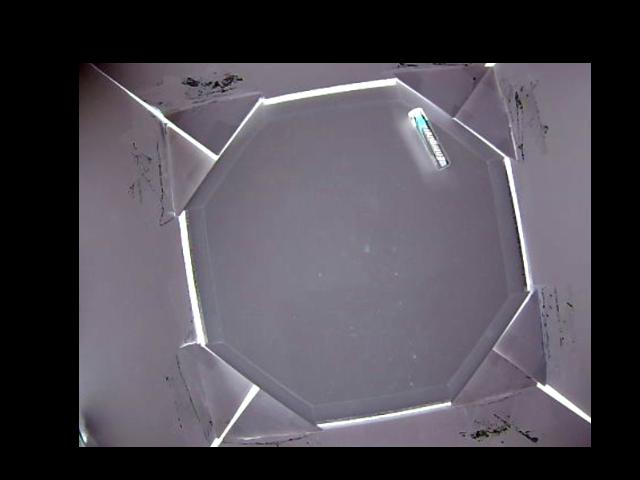Battery: (408, 107, 450, 170)
